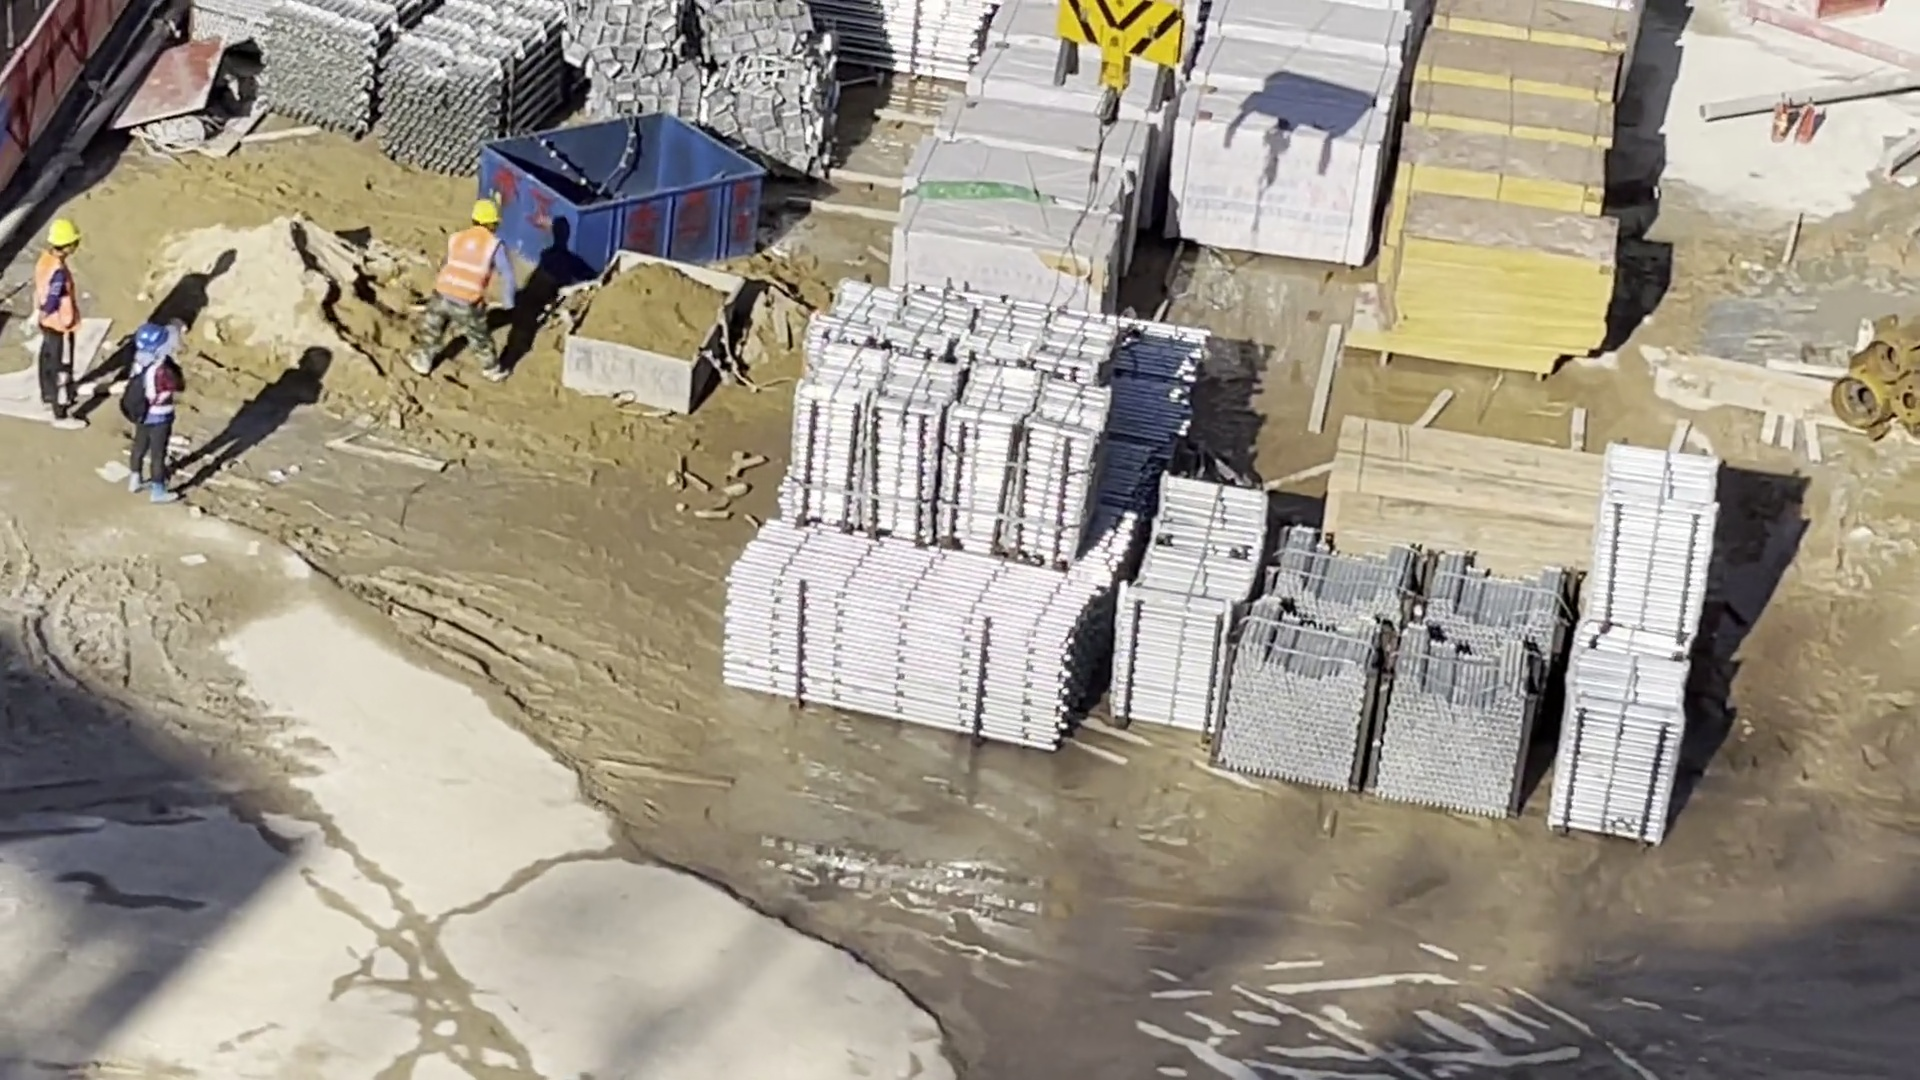helmet: (126, 307, 181, 365), (38, 215, 91, 273), (465, 190, 513, 237)
hook: (1047, 1, 1189, 132)
hopper: (486, 98, 753, 266), (564, 247, 738, 412)
person: (21, 213, 100, 450), (126, 315, 192, 517), (440, 192, 508, 384)
scaffold: (766, 268, 1073, 745), (1279, 520, 1538, 821), (1582, 457, 1727, 828), (250, 1, 532, 146), (1119, 473, 1223, 730)
vest: (449, 223, 500, 317), (33, 250, 84, 337)
